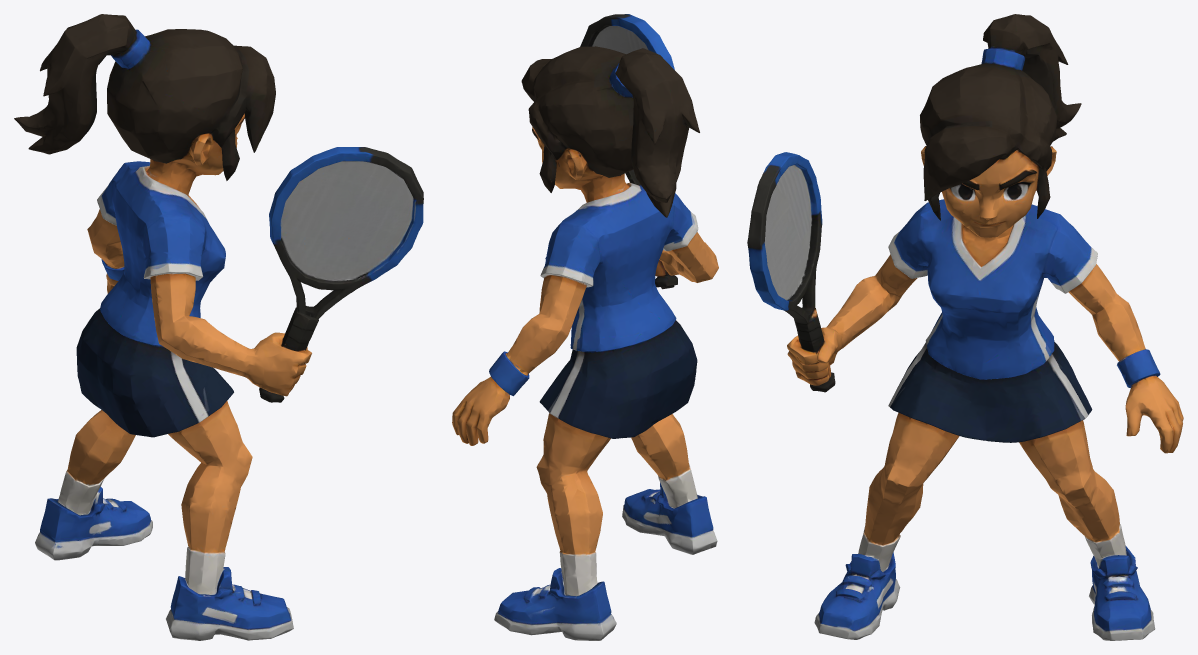
The model's file is blue.fbx.
3 views of the same model, side by side, from view 1: azimuth 30°, elevation 25°; view 2: azimuth 150°, elevation 25°; view 3: azimuth 270°, elevation 25° (orthographic). The views are drawn at different scales.
Parts seen in each view (by area): view 1: tripo_node_5e092a0a; view 2: tripo_node_5e092a0a; view 3: tripo_node_5e092a0a.
Boxes of the visible parts, box(x1,y1,x2,y2) form: tripo_node_5e092a0a: box(14, 14, 423, 640); tripo_node_5e092a0a: box(452, 14, 718, 640); tripo_node_5e092a0a: box(747, 14, 1183, 640).
Size of the model in its own units: 0.4601 by 1 by 0.68.
1 material, 1 textured.
